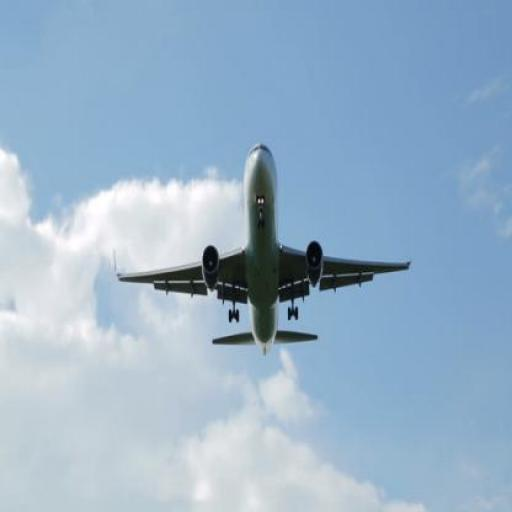aircraft: (113, 142, 411, 356)
